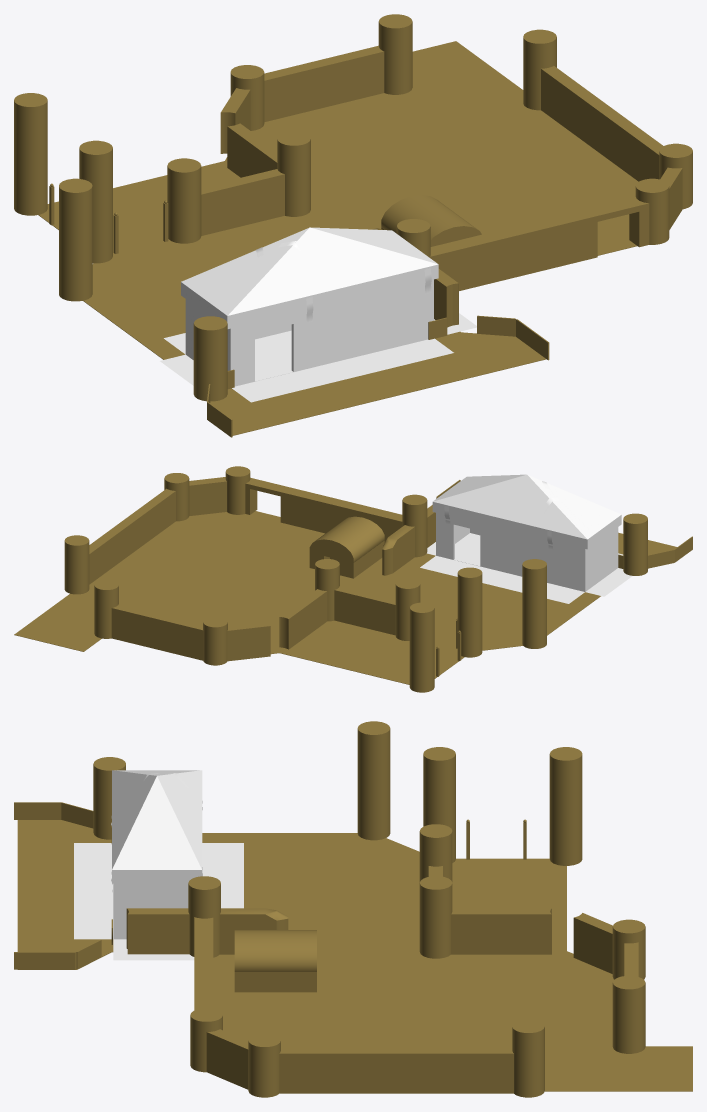
File: lvlP3.FBX
The picture shows the model from 3 angles, top to bottom: view 1: azimuth 30°, elevation 25°; view 2: azimuth 150°, elevation 25°; view 3: azimuth 270°, elevation 25°; orthographic projection. The views are drawn at different scales.
Visible parts, largest first — view 1: Line023, Box515, Pyramid002, Box504, Box018, Box251, Box258, Cylinder364, Cylinder354, Cylinder363, Cylinder763, Cylinder118 (+14 smaller); view 2: Line023, Box515, Pyramid002, Box504, Box018, Box251, Cylinder354, Cylinder112, Box258, Cylinder364, Cylinder363, Box253 (+14 smaller); view 3: Line023, Box018, Pyramid002, Box515, Box253, Cylinder364, Cylinder354, Cylinder112, Box034, Cylinder363, Cylinder116, Cylinder117 (+15 smaller).
Part boxes in pixels (x1,y1,x2,y2): Line023: (38,41,638,435); Box515: (160,279,476,402); Pyramid002: (181,227,438,328); Box504: (430,197,649,290); Box018: (541,66,662,181); Box251: (264,45,384,122); Box258: (201,169,284,235); Cylinder364: (59,178,92,301); Cylinder354: (14,93,47,215); Cylinder363: (79,140,112,263); Cylinder763: (193,316,227,401); Cylinder118: (167,158,201,243); Line023: (14,511,677,684); Box515: (420,513,632,603); Pyramid002: (432,474,621,549); Box504: (245,477,402,542); Box018: (89,488,175,584); Box251: (111,604,203,660); Cylinder354: (409,602,434,692); Cylinder112: (309,516,384,563); Box258: (334,586,395,635); Cylinder364: (522,559,546,648); Cylinder363: (457,567,482,657); Box253: (279,589,327,649); Line023: (17,820,692,1091); Box018: (279,1047,513,1093); Pyramid002: (112,770,202,883); Box515: (74,843,243,960); Box253: (451,908,551,954); Cylinder364: (357,721,390,840); Cylinder354: (549,747,582,865); Cylinder112: (234,930,316,971); Box034: (126,908,189,954); Cylinder363: (423,747,455,862); Cylinder116: (419,876,452,958); Cylinder117: (612,975,645,1053).
Size of the model in its own units: 9466 by 1837 by 9758.
